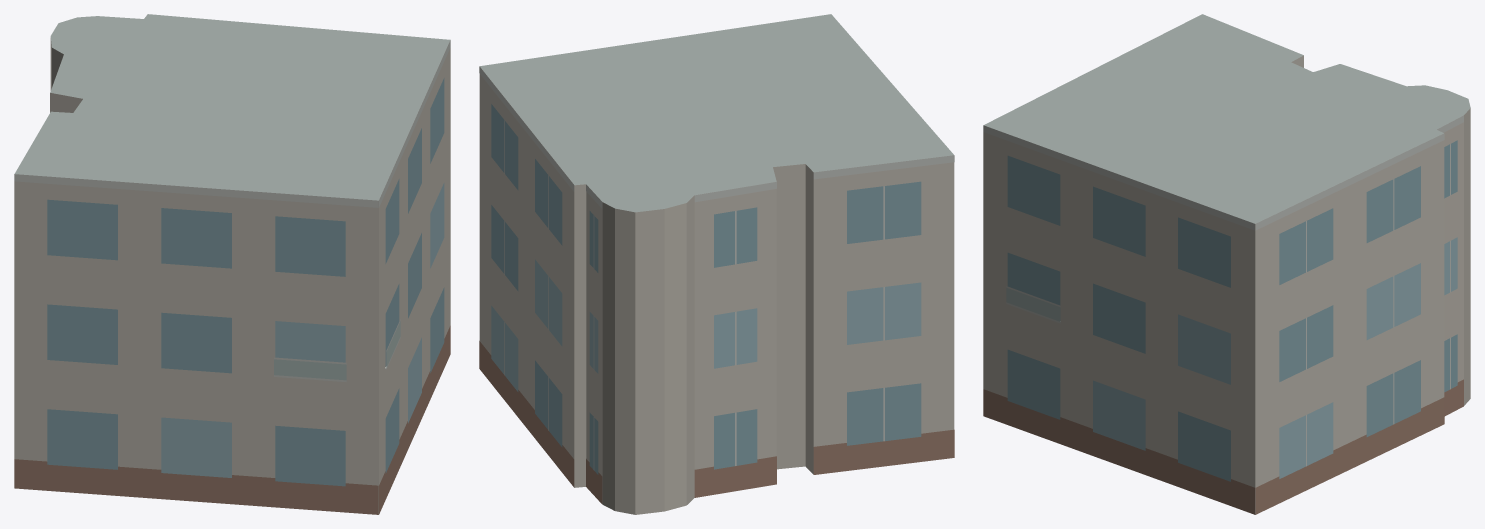
The model's file is survey-upis-32964122.glb.
3 views of the same model, side by side, from view 1: azimuth 30°, elevation 25°; view 2: azimuth 150°, elevation 25°; view 3: azimuth 270°, elevation 25° (orthographic). The views are drawn at different scales.
Parts seen in each view (by area): view 1: survey-upis-32964122.tmp; view 2: survey-upis-32964122.tmp; view 3: survey-upis-32964122.tmp.
Boxes of the visible parts, <box> form: survey-upis-32964122.tmp: <box>14,14,450,514</box>; survey-upis-32964122.tmp: <box>479,14,954,514</box>; survey-upis-32964122.tmp: <box>983,14,1470,514</box>.
Bounding box in the file's own units: 16.26 × 10.5 × 15.94.
